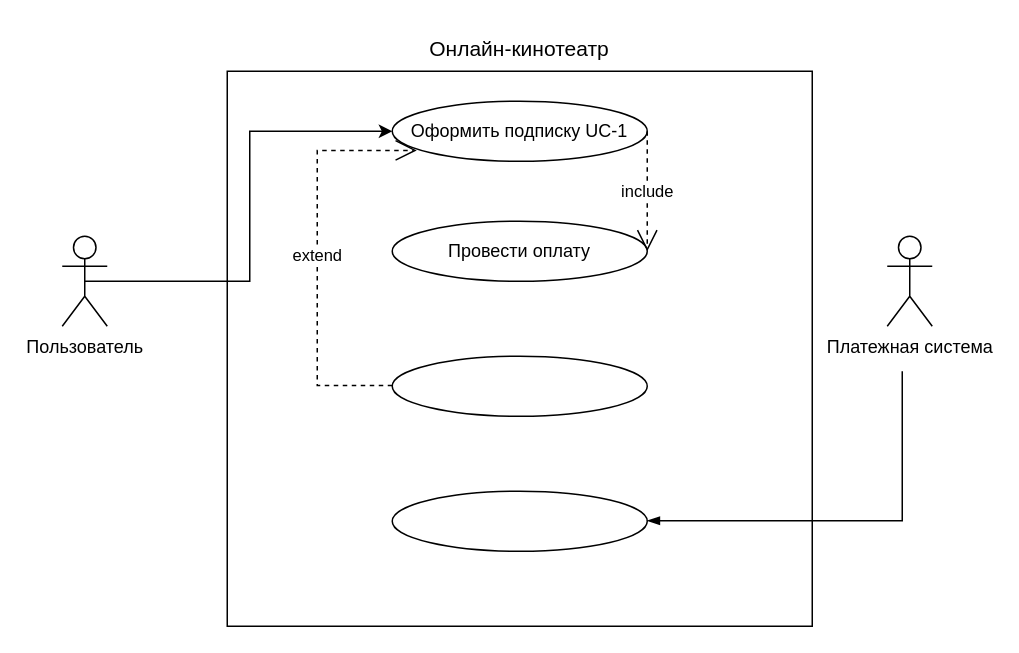
The diagram is 1019 pixels wide and 653 high, and some of its shapes have lost their labels. The shapes that lost their labels are listed below. From the top down, each one's centre as x and y in pixels, then its label:
point 519,385: Применить промокод
point 519,520: Отправить подтверждение
